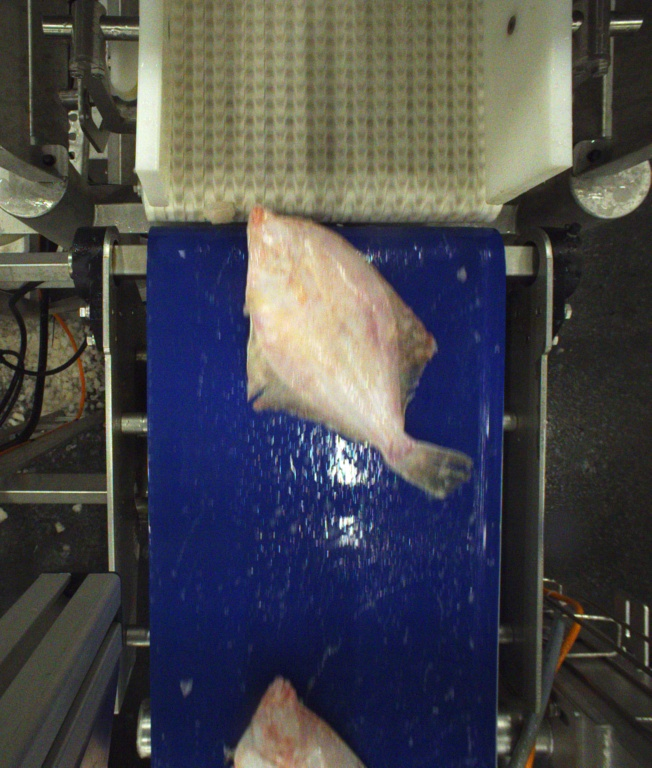PLE: (241, 203, 475, 502)
